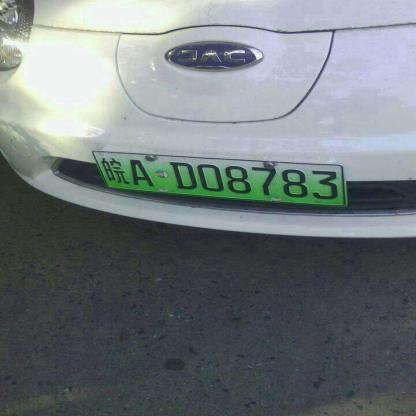lp: (91, 152, 344, 204)
